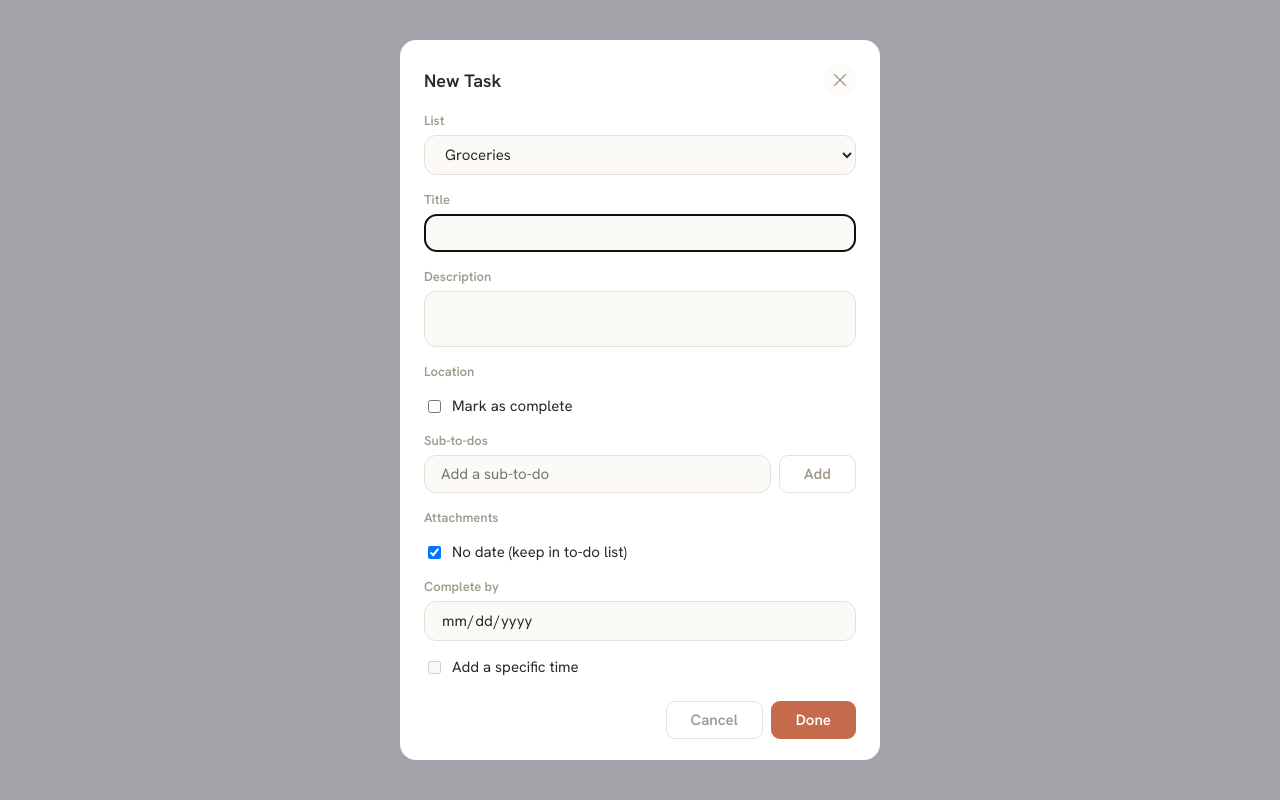
Test: PlanItemModal › adds and removes a sub-to-do
Type "Pack bags" into the field with placeholder "Add a sub-to-do". click: {"x": 597, "y": 474}
box: [424, 455, 771, 493]
Then press Enter
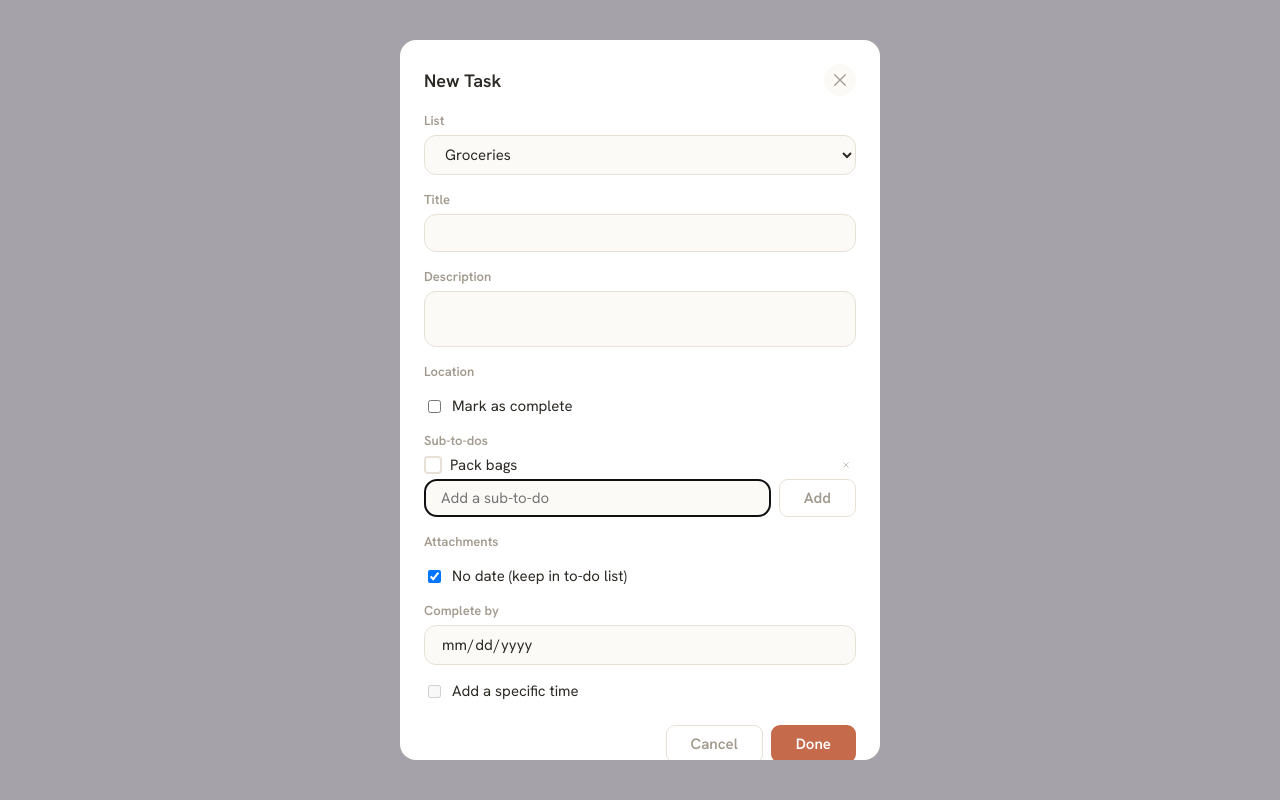
Expected: the button "Pack bags" is shown, [450, 455, 517, 475]
Click the button named "Remove sub-to-do". click: {"x": 846, "y": 465}
box: [836, 455, 856, 475]
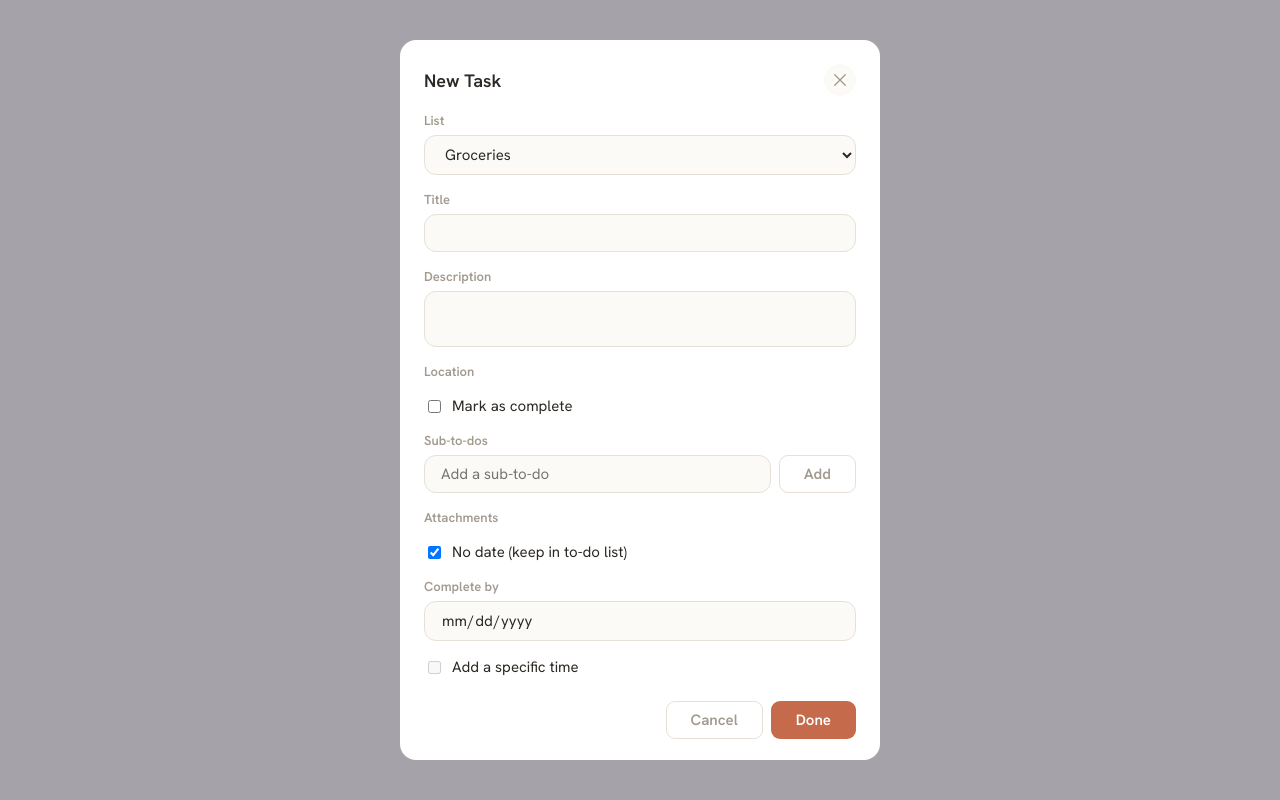
Expected: the button "Pack bags" is gone
